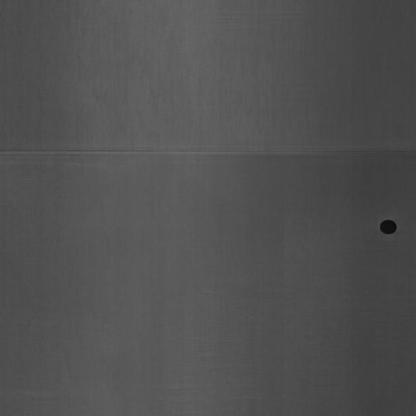punching_hole: (378, 216, 400, 241)
welding_line: (2, 136, 413, 170)
